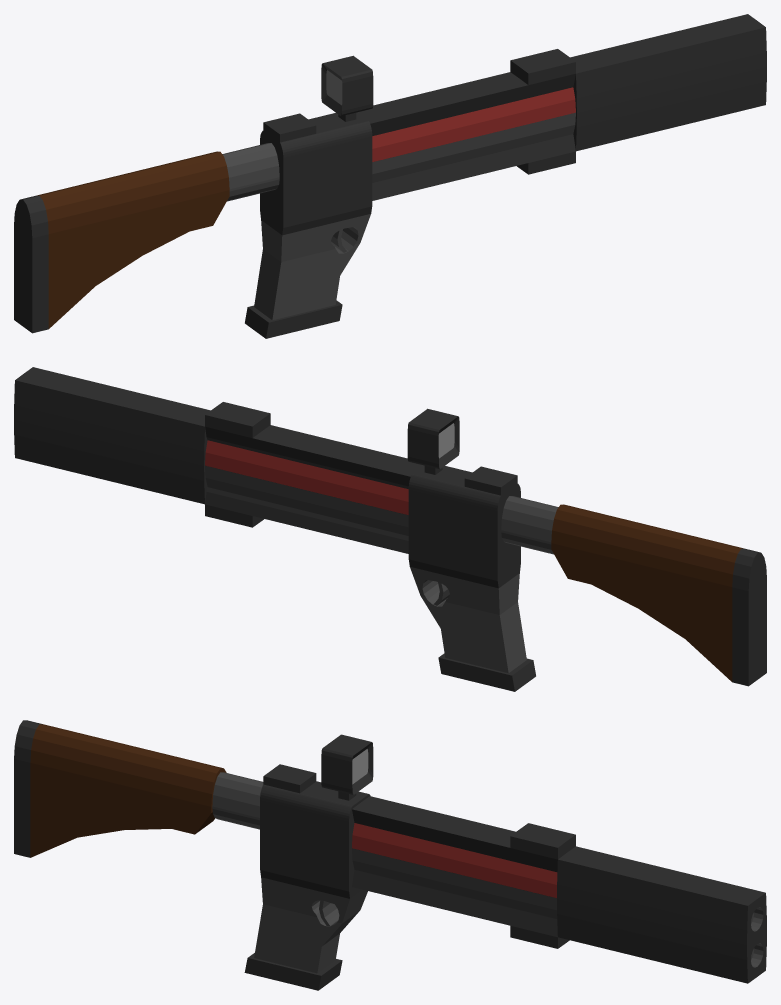
File: ShotGun.fbx
3 renders of one model, top to bottom at view 1: azimuth 30°, elevation 25°; view 2: azimuth 150°, elevation 25°; view 3: azimuth 330°, elevation 25°, orthographic.
Visible parts, largest first — view 1: Gatillo.001, Cañon.001; view 2: Gatillo.001, Cañon.001; view 3: Gatillo.001, Cañon.001.
Part boxes in pixels (x1,y1,x2,y2): Gatillo.001: (14, 55, 373, 338); Cañon.001: (357, 14, 766, 200); Gatillo.001: (407, 408, 766, 691); Cañon.001: (14, 367, 423, 553); Gatillo.001: (14, 720, 373, 990); Cañon.001: (351, 796, 766, 983).
Size of the model in its own units: 4632 by 1462 by 253.
